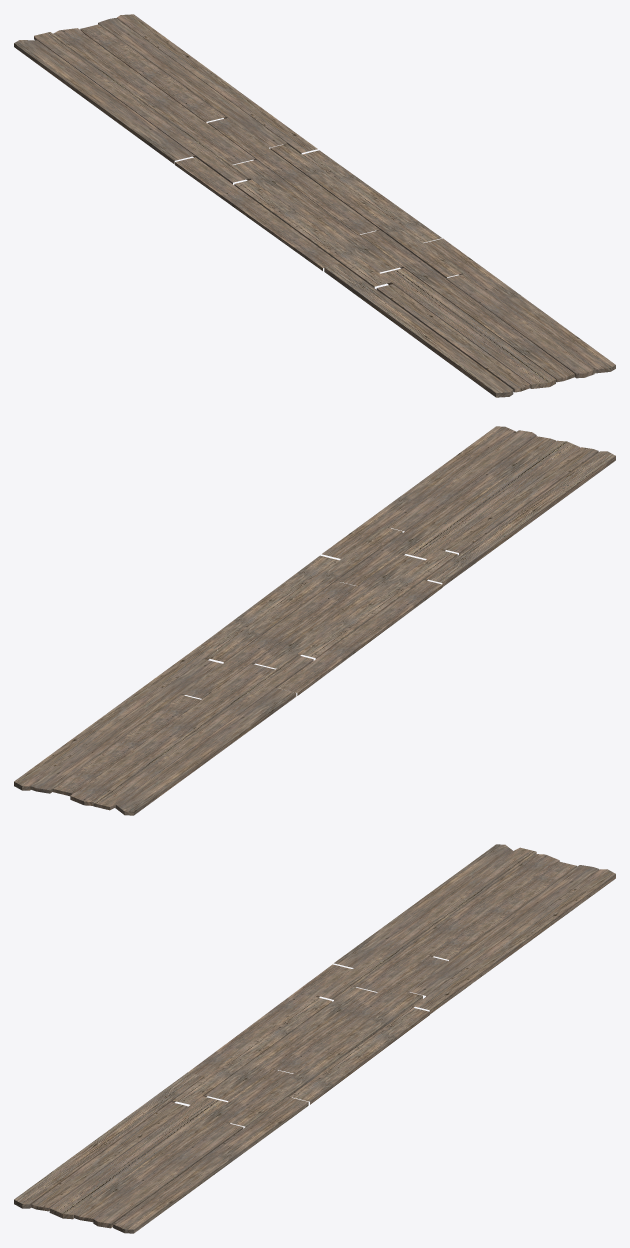
The model's file is Prop_Mq02_lod2.glb.
3 views of the same model, one above another, from view 1: azimuth 30°, elevation 25°; view 2: azimuth 150°, elevation 25°; view 3: azimuth 330°, elevation 25° (orthographic).
Parts seen in each view (by area): view 1: xiutz_mq_02_lod2; view 2: xiutz_mq_02_lod2; view 3: xiutz_mq_02_lod2.
Part boxes in pixels (box(x1,y1,x2,y2)): xiutz_mq_02_lod2: box(14, 14, 615, 397); xiutz_mq_02_lod2: box(14, 426, 615, 815); xiutz_mq_02_lod2: box(14, 844, 615, 1233).
Size of the model in its own units: 3.96 by 0.1652 by 27.07.
Materials: 1 (1 with a texture image).
